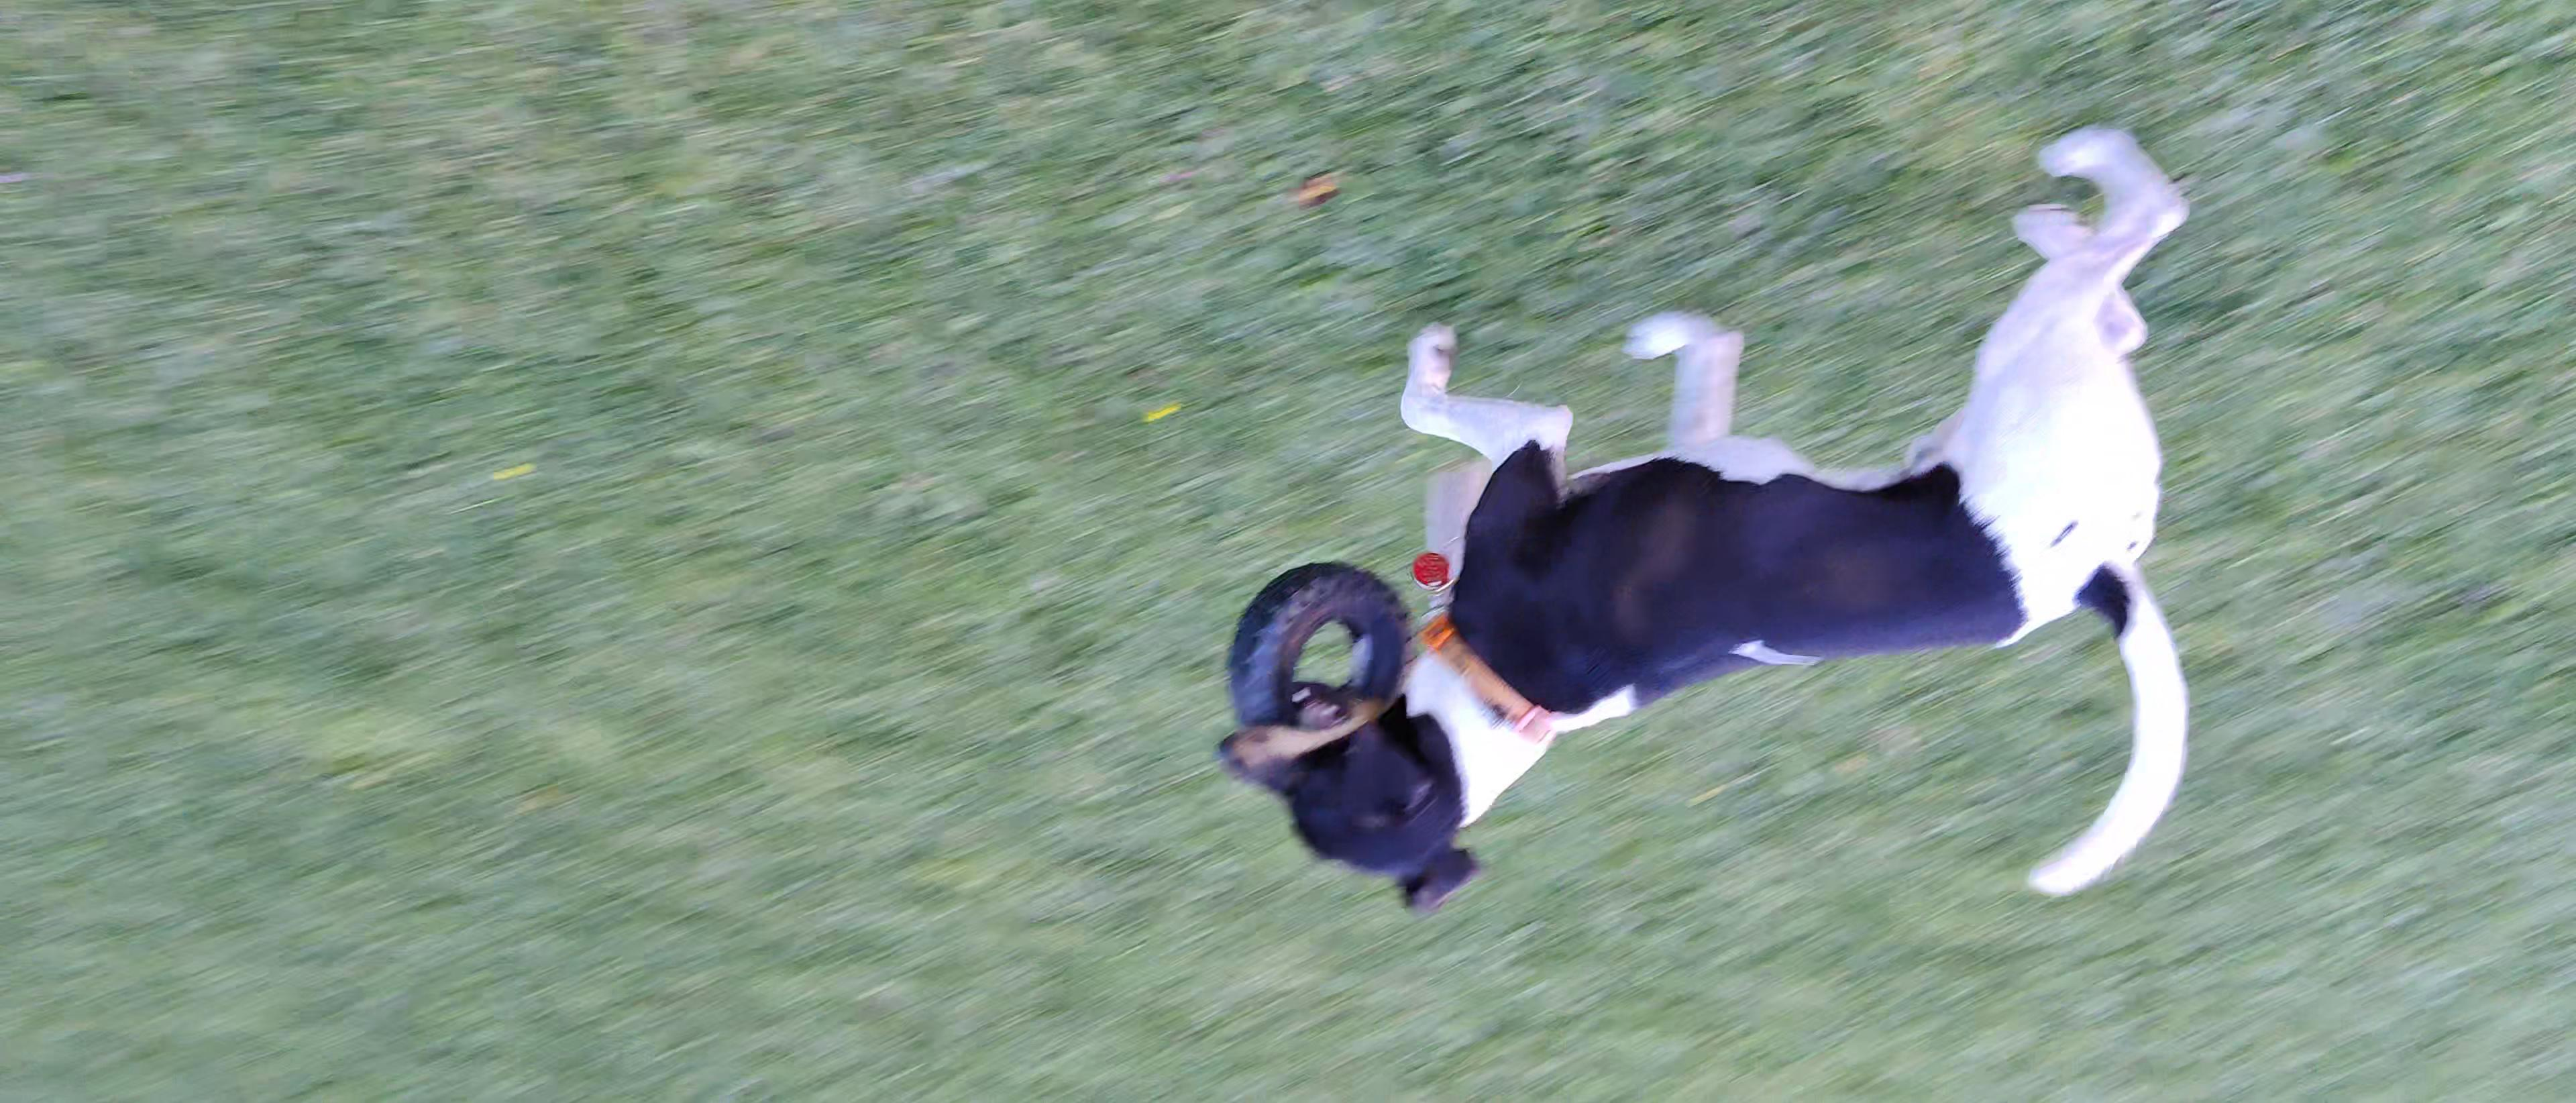Dog: (1193, 102, 2241, 916)
